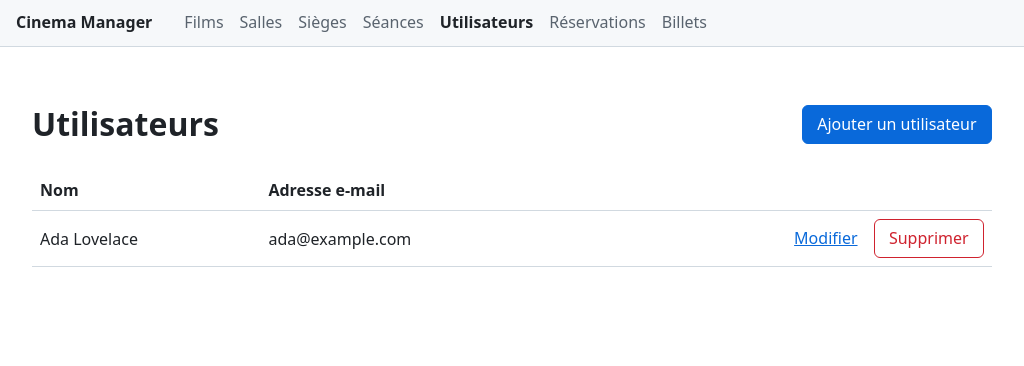
Scenario: UsersPage › explains why a user with reservations cannot be deleted
Click the button "Supprimer" at (929, 238), box [874,219,984,258]
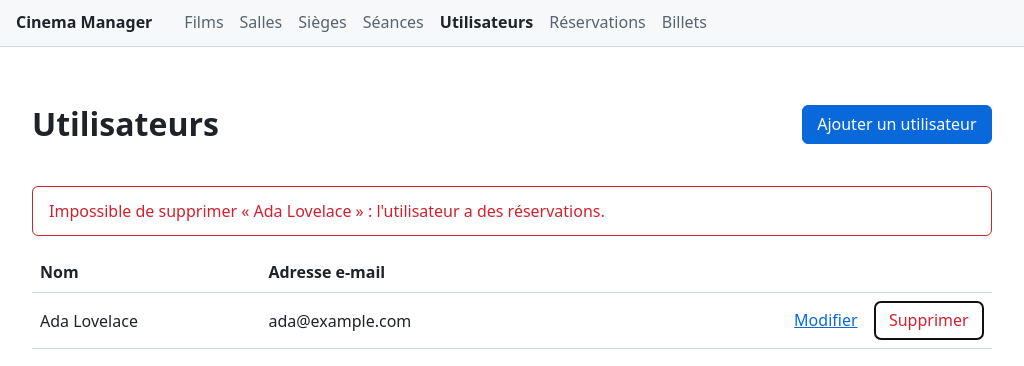
Expected: the message reads "Impossible de supprimer « Ada Lovelace » : l'utilisateur a des réservations.", [49,200,605,222]
